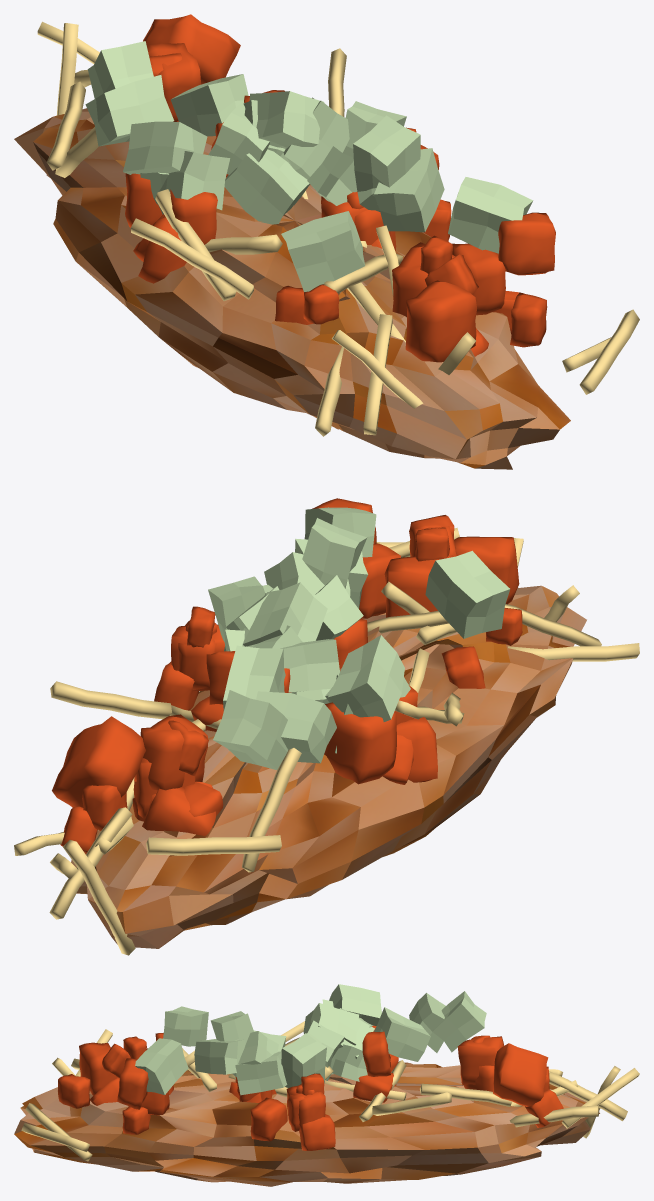
File: burrito-content.fbx
3 views of the same model, one above another, from view 1: azimuth 30°, elevation 25°; view 2: azimuth 150°, elevation 25°; view 3: azimuth 270°, elevation 25° (orthographic). The views are drawn at different scales.
Visible parts, largest first — view 1: brown, Circle|red|Dupli|17.0.0.0.0.0.0.0.0.0, Plane.001|green|Dupli|7.0.0.0.0.0.0.0.0.0, Plane.001|green|Dupli|12.0.0.0.0.0.0.0.0.0, Plane.001|green|Dupli|14.0.0.0.0.0.0.0.0.0, Plane.001|green|Dupli|11.0.0.0.0.0.0.0.0.0, Plane.001|green|Dupli|17.0.0.0.0.0.0.0.0.0, Plane.001|green|Dupli|15.0.0.0.0.0.0.0.0.0, Plane.001|green|Dupli|0.0.0.0.0.0.0.0.0.0, Circle|red|Dupli|23.0.0.0.0.0.0.0.0.0, Plane.001|green|Dupli|6.0.0.0.0.0.0.0.0.0, Circle|red|Dupli|41.0.0.0.0.0.0.0.0.0 (+34 smaller); view 2: brown, Circle|red|Dupli|23.0.0.0.0.0.0.0.0.0, Plane.001|green|Dupli|7.0.0.0.0.0.0.0.0.0, Plane.001|green|Dupli|0.0.0.0.0.0.0.0.0.0, Circle|red|Dupli|2.0.0.0.0.0.0.0.0.0, Plane.001|green|Dupli|1.0.0.0.0.0.0.0.0.0, Plane.001|green|Dupli|6.0.0.0.0.0.0.0.0.0, Plane.001|green|Dupli|17.0.0.0.0.0.0.0.0.0, Circle|red|Dupli|43.0.0.0.0.0.0.0.0.0, Plane.001|green|Dupli|15.0.0.0.0.0.0.0.0.0, Plane.001|green|Dupli|4.0.0.0.0.0.0.0.0.0, Plane.001|green|Dupli|10.0.0.0.0.0.0.0.0.0 (+38 smaller); view 3: brown, Circle|red|Dupli|23.0.0.0.0.0.0.0.0.0, Plane.001|green|Dupli|14.0.0.0.0.0.0.0.0.0, Plane.001|green|Dupli|4.0.0.0.0.0.0.0.0.0, Plane.001|green|Dupli|1.0.0.0.0.0.0.0.0.0, Plane.001|green|Dupli|13.0.0.0.0.0.0.0.0.0, Plane.001|green|Dupli|11.0.0.0.0.0.0.0.0.0, Plane.001|green|Dupli|16.0.0.0.0.0.0.0.0.0, Plane.001|green|Dupli|7.0.0.0.0.0.0.0.0.0, Circle|red|Dupli|43.0.0.0.0.0.0.0.0.0, Plane.001|green|Dupli|0.0.0.0.0.0.0.0.0.0, Plane.001|green|Dupli|6.0.0.0.0.0.0.0.0.0 (+34 smaller).
Boxes of the visible parts, bbox=[...] form: brown: bbox=[14, 108, 570, 469]; Circle|red|Dupli|17.0.0.0.0.0.0.0.0.0: bbox=[405, 280, 476, 362]; Plane.001|green|Dupli|7.0.0.0.0.0.0.0.0.0: bbox=[281, 211, 365, 291]; Plane.001|green|Dupli|12.0.0.0.0.0.0.0.0.0: bbox=[224, 149, 309, 224]; Plane.001|green|Dupli|14.0.0.0.0.0.0.0.0.0: bbox=[448, 177, 533, 253]; Plane.001|green|Dupli|11.0.0.0.0.0.0.0.0.0: bbox=[374, 148, 444, 232]; Plane.001|green|Dupli|17.0.0.0.0.0.0.0.0.0: bbox=[85, 75, 174, 146]; Plane.001|green|Dupli|15.0.0.0.0.0.0.0.0.0: bbox=[353, 115, 420, 204]; Plane.001|green|Dupli|0.0.0.0.0.0.0.0.0.0: bbox=[123, 121, 207, 174]; Circle|red|Dupli|23.0.0.0.0.0.0.0.0.0: bbox=[143, 14, 240, 84]; Plane.001|green|Dupli|6.0.0.0.0.0.0.0.0.0: bbox=[249, 91, 324, 148]; Circle|red|Dupli|41.0.0.0.0.0.0.0.0.0: bbox=[498, 212, 555, 275]; brown: bbox=[71, 585, 586, 948]; Circle|red|Dupli|23.0.0.0.0.0.0.0.0.0: bbox=[52, 716, 145, 807]; Plane.001|green|Dupli|7.0.0.0.0.0.0.0.0.0: bbox=[425, 550, 510, 638]; Plane.001|green|Dupli|0.0.0.0.0.0.0.0.0.0: bbox=[328, 635, 404, 721]; Circle|red|Dupli|2.0.0.0.0.0.0.0.0.0: bbox=[324, 702, 396, 784]; Plane.001|green|Dupli|1.0.0.0.0.0.0.0.0.0: bbox=[213, 690, 287, 769]; Plane.001|green|Dupli|6.0.0.0.0.0.0.0.0.0: bbox=[243, 582, 327, 646]; Plane.001|green|Dupli|17.0.0.0.0.0.0.0.0.0: bbox=[256, 691, 336, 763]; Circle|red|Dupli|43.0.0.0.0.0.0.0.0.0: bbox=[134, 714, 207, 790]; Plane.001|green|Dupli|15.0.0.0.0.0.0.0.0.0: bbox=[302, 518, 366, 588]; Plane.001|green|Dupli|4.0.0.0.0.0.0.0.0.0: bbox=[223, 645, 285, 710]; Plane.001|green|Dupli|10.0.0.0.0.0.0.0.0.0: bbox=[280, 639, 339, 692]; brown: bbox=[14, 1062, 599, 1186]; Circle|red|Dupli|23.0.0.0.0.0.0.0.0.0: bbox=[493, 1043, 548, 1106]; Plane.001|green|Dupli|14.0.0.0.0.0.0.0.0.0: bbox=[135, 1038, 188, 1094]; Plane.001|green|Dupli|4.0.0.0.0.0.0.0.0.0: bbox=[374, 1007, 430, 1061]; Plane.001|green|Dupli|1.0.0.0.0.0.0.0.0.0: bbox=[432, 991, 486, 1052]; Plane.001|green|Dupli|13.0.0.0.0.0.0.0.0.0: bbox=[281, 1033, 326, 1087]; Plane.001|green|Dupli|11.0.0.0.0.0.0.0.0.0: bbox=[194, 1039, 245, 1074]; Plane.001|green|Dupli|16.0.0.0.0.0.0.0.0.0: bbox=[235, 1051, 287, 1095]; Plane.001|green|Dupli|7.0.0.0.0.0.0.0.0.0: bbox=[163, 1006, 208, 1046]; Circle|red|Dupli|43.0.0.0.0.0.0.0.0.0: bbox=[457, 1036, 504, 1085]; Plane.001|green|Dupli|0.0.0.0.0.0.0.0.0.0: bbox=[329, 984, 381, 1025]; Plane.001|green|Dupli|6.0.0.0.0.0.0.0.0.0: bbox=[303, 1003, 358, 1045].
Bounding box in the file's own units: 73.42 × 56.14 × 181.
